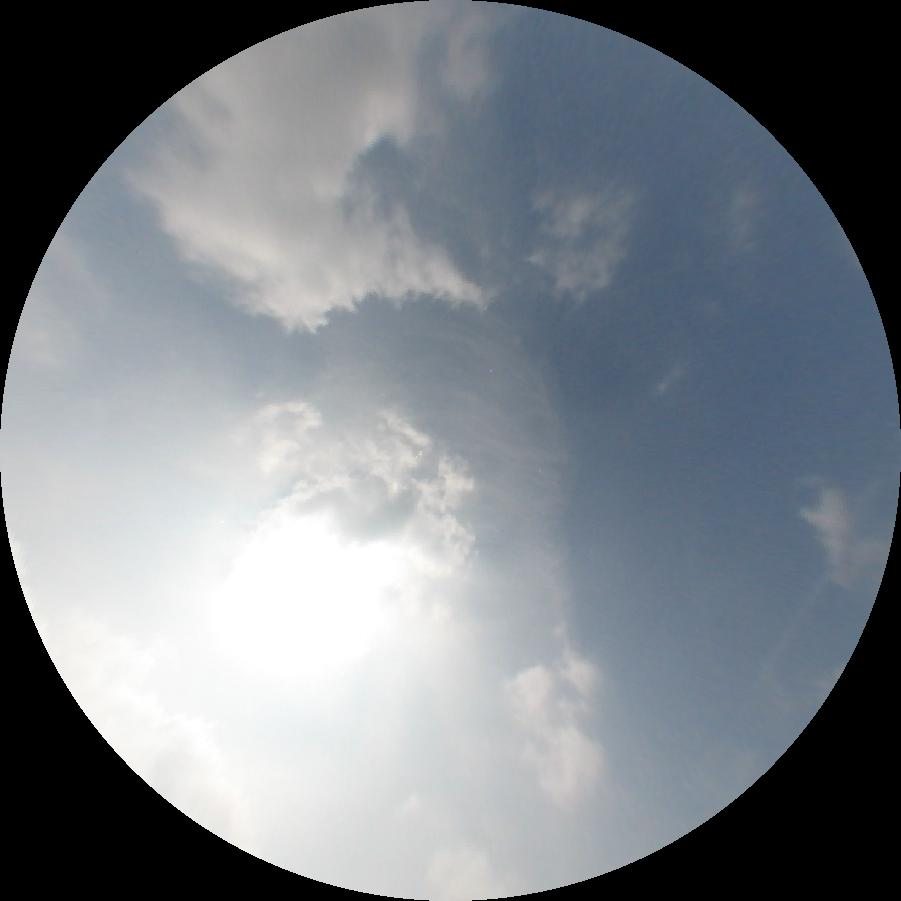contrail veryold: (736, 574, 832, 730)
sun: (212, 508, 409, 680)
